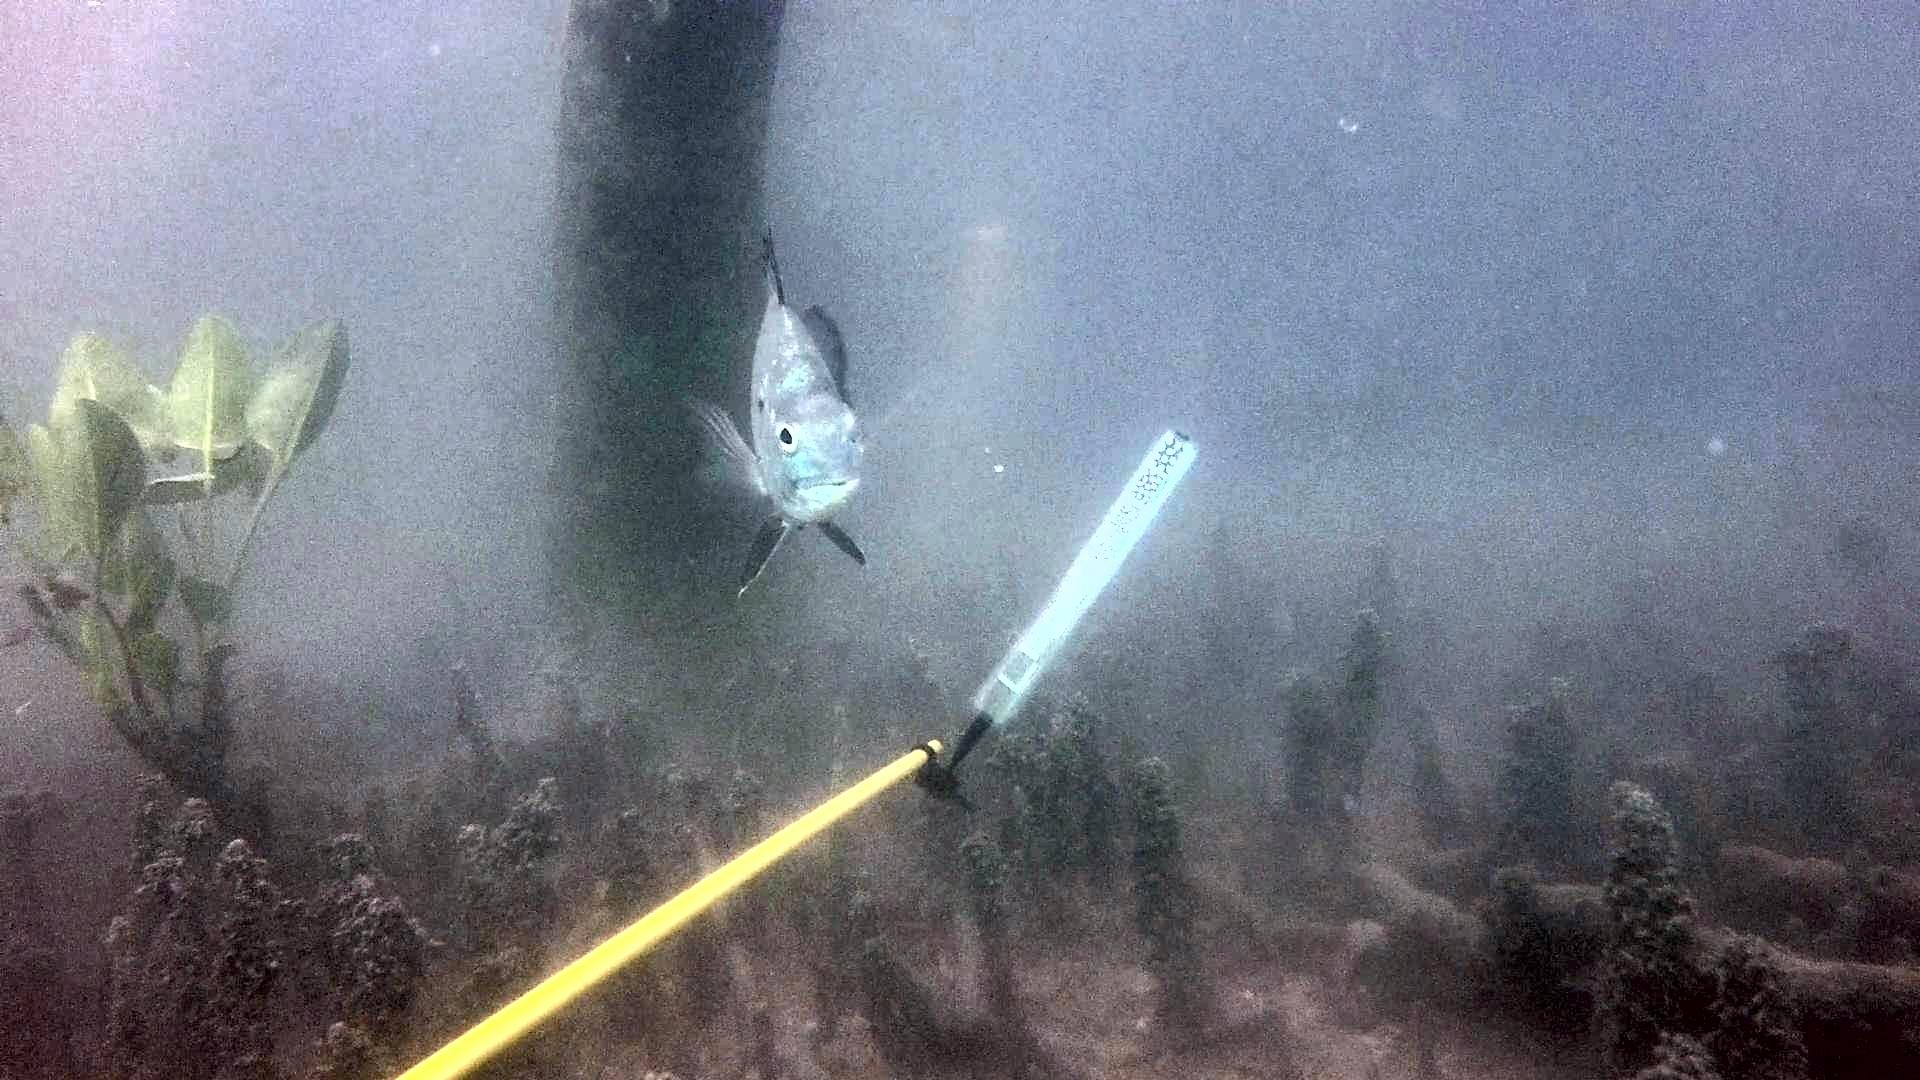acanthopagrus palmaris: (670, 228, 910, 604)
